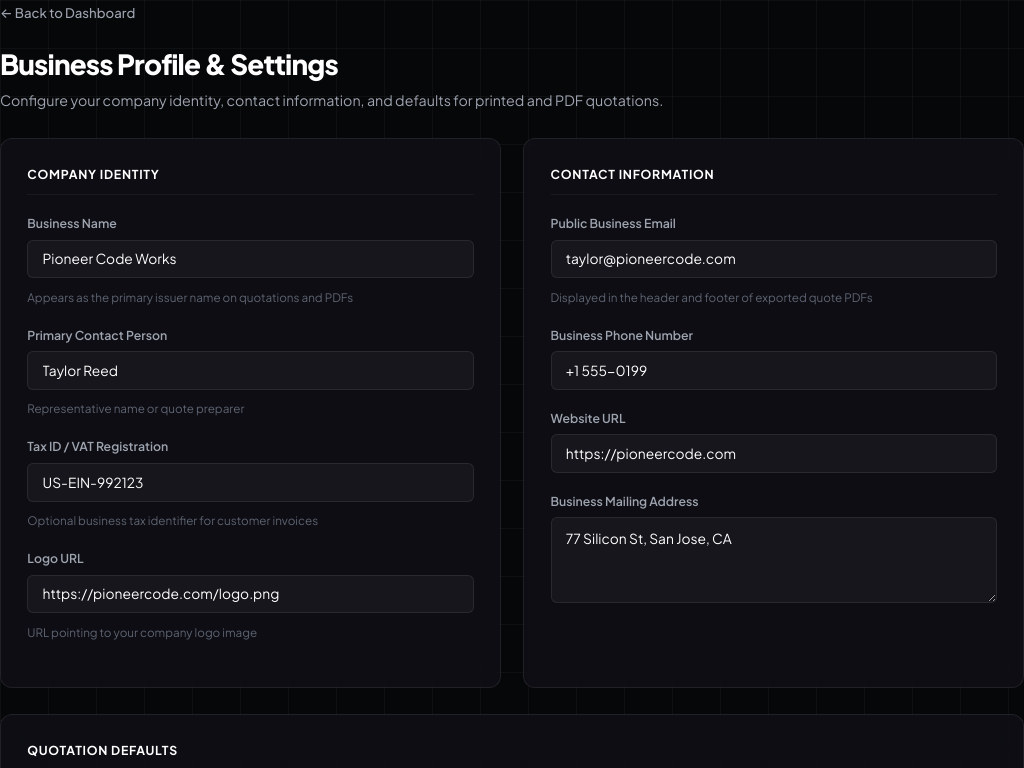
SettingsPage › validates invalid email format and prevents submission
The width and height of the screenshot is (1024, 768).
Replace the text in the field labelled "Public Business Email" with "invalid-email-string" at (774,259), box top-left (550, 240), bottom-right (997, 278)
(page scrolled)
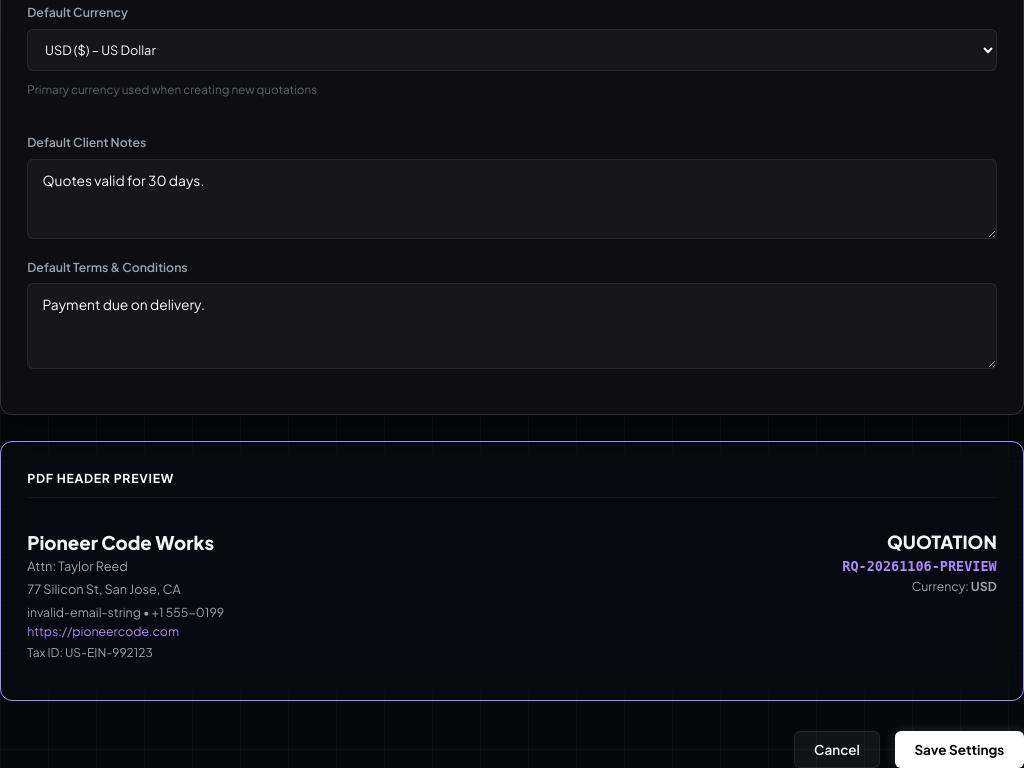
Click the button "Save Settings" at (959,750), box top-left (895, 731), bottom-right (1023, 767)
(page scrolled)
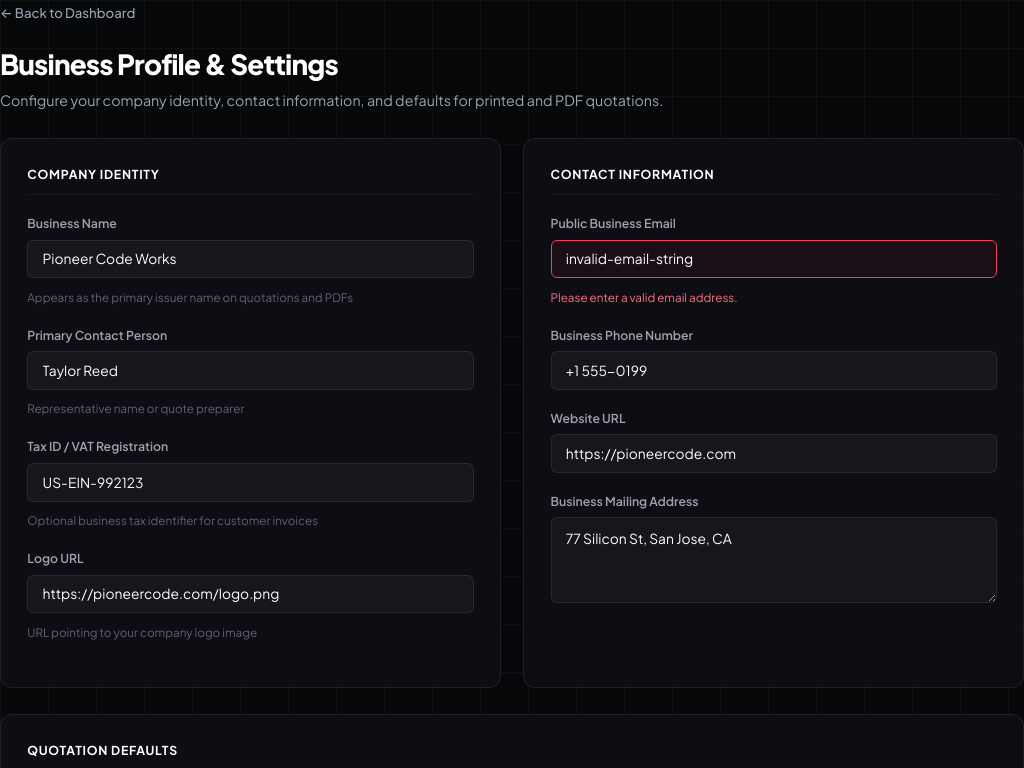
Result: the text "Please enter a valid email address." is shown at top-left (550, 290), bottom-right (738, 305)
